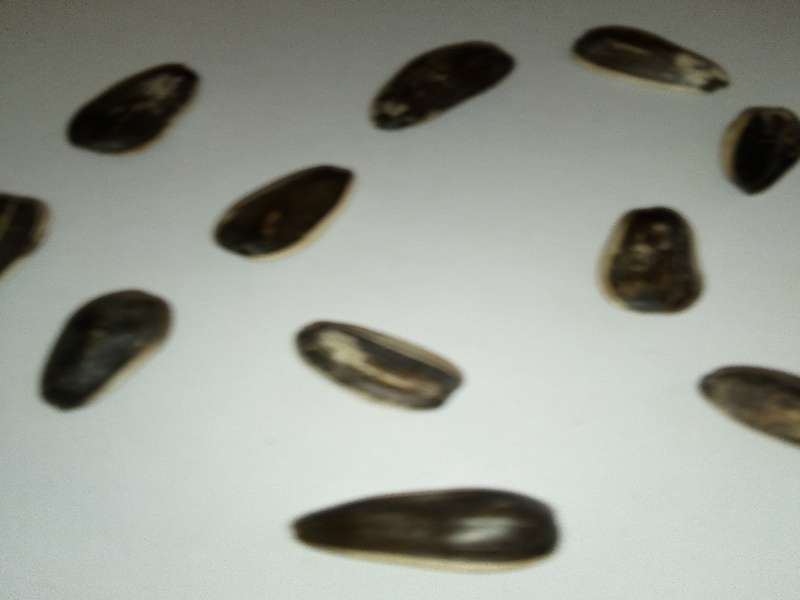girasol: (284, 480, 584, 574), (283, 309, 476, 423), (31, 279, 181, 414)
